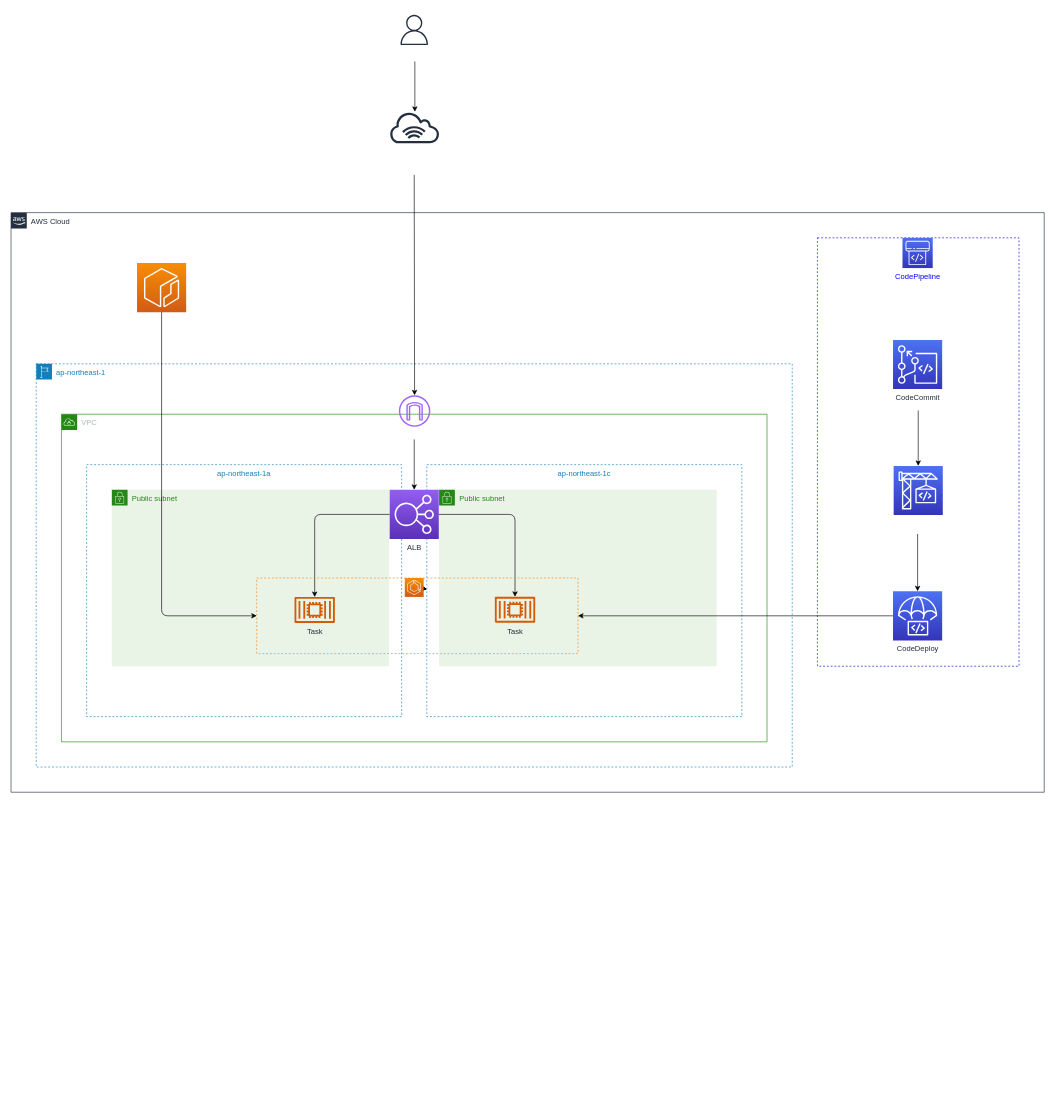
The diagram is 1055 pixels wide and 1111 high, and some of its shapes have lost their labels. Here are the shapes that lost their labels. From the top down, the centre of each, then its label:
At [414,29]: "User".
At [414,127]: "Internet".
At [161,287]: "ECR".
At [414,411]: "Internet Gateway".
At [918,490]: "CodeBuild".
At [414,587]: "ECS Cluster".
